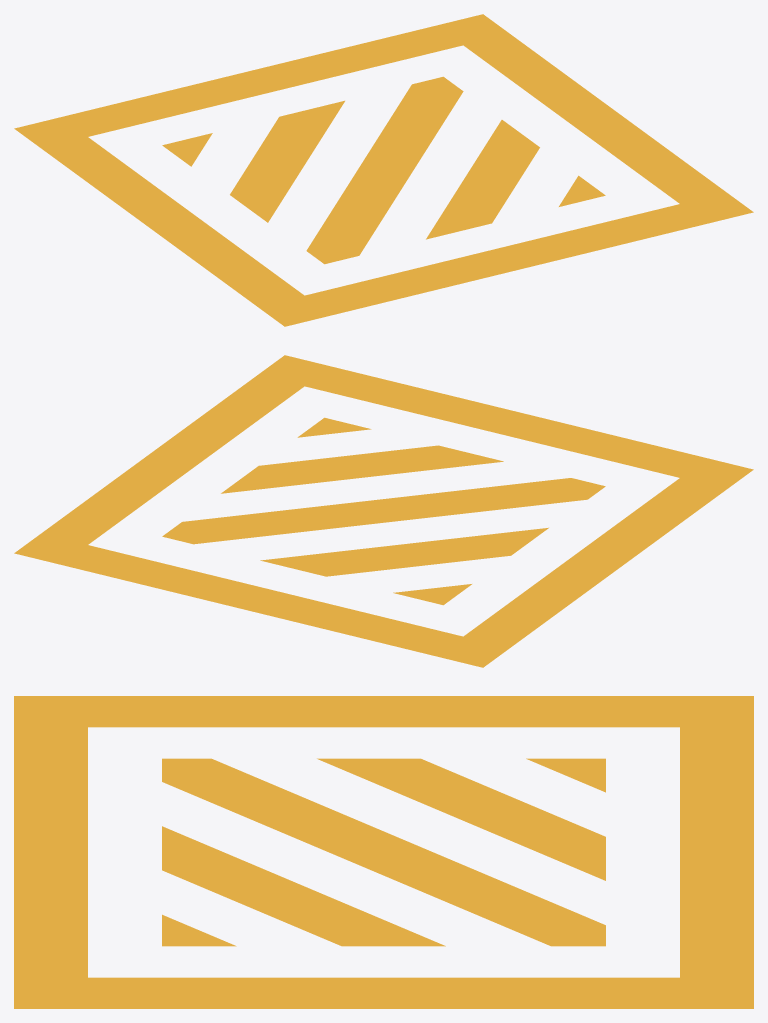
Rendered from indicator-special-area.glb.
3 renders of one model, top to bottom at view 1: azimuth 30°, elevation 25°; view 2: azimuth 150°, elevation 25°; view 3: azimuth 270°, elevation 25°, orthographic. The views are drawn at different scales.
Parts seen in each view (by area): view 1: indicator-special-area; view 2: indicator-special-area; view 3: indicator-special-area.
Boxes of the visible parts, <box> form: indicator-special-area: <box>14,14,753,326</box>; indicator-special-area: <box>14,355,753,667</box>; indicator-special-area: <box>14,696,753,1008</box>.
Size of the model in its own units: 1 by 0 by 1.
Materials: 1 (1 with a texture image).
